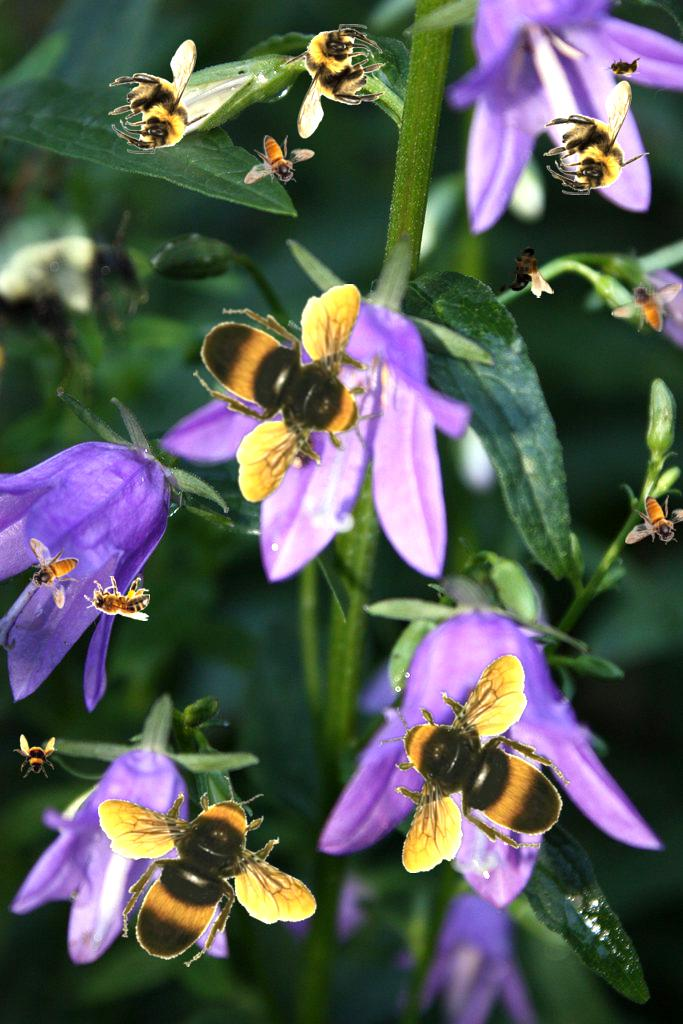Bee: (193, 284, 384, 504), (98, 776, 318, 967), (379, 653, 570, 873), (108, 39, 215, 154), (279, 24, 386, 139), (543, 80, 650, 195), (611, 282, 682, 332), (244, 135, 315, 185), (29, 538, 79, 609), (492, 245, 554, 298), (84, 576, 150, 621), (625, 495, 683, 545), (13, 734, 57, 778), (604, 56, 644, 78)
